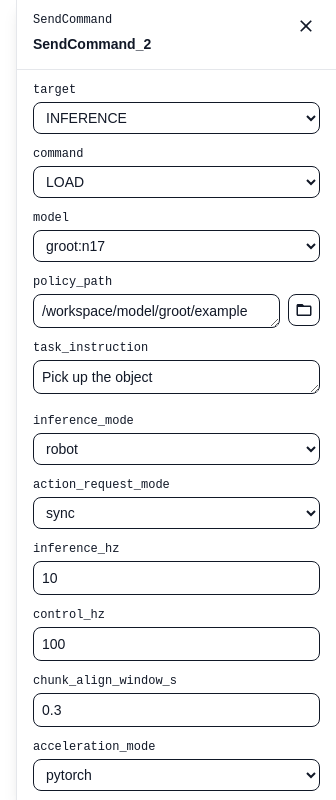
switches SendCommand to Docker controls and enables only target, command, and model
Select "DOCKER" in the dropdown below "target" at x=176, y=118, box 33,102 -> 320,134
(page scrolled)
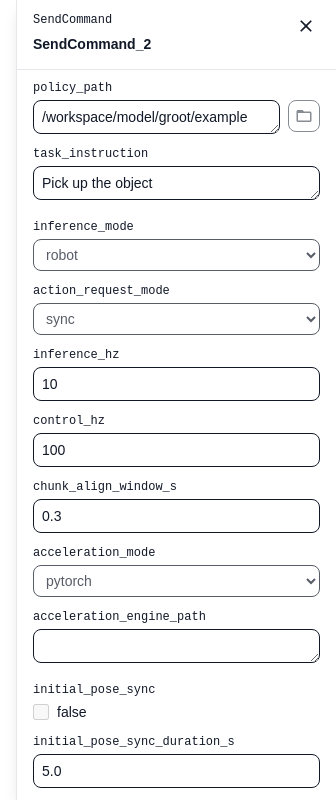
Check: the text box below "acceleration_engine_path" is disabled, box 33,629 -> 320,663
